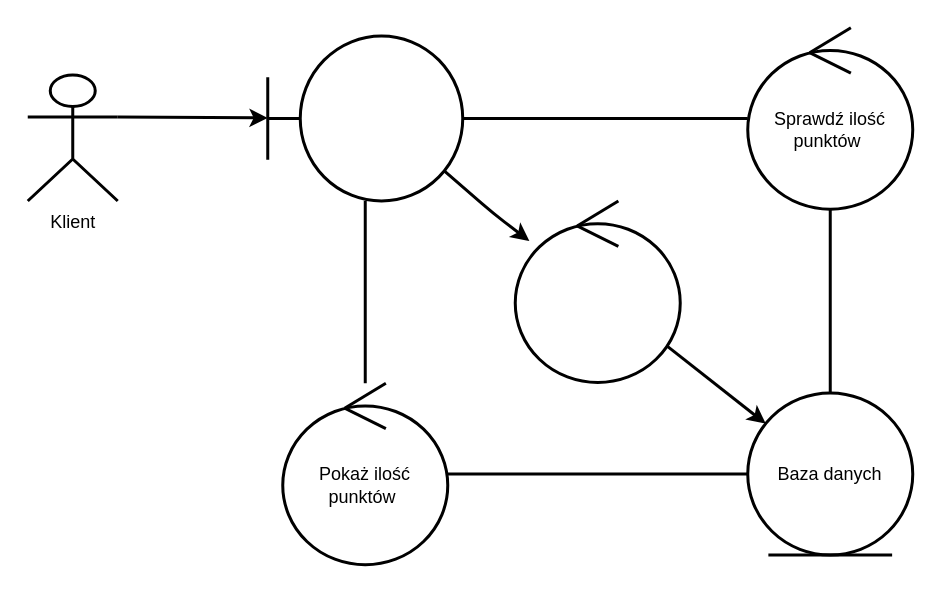
Some shapes in this 939 by 591 pixel diagram are drawn without their labels. The shapes that lost their labels are listed below. From the top down, each one's box as (x1, y1, x2, y2) in pixels, then its label:
(266, 34, 464, 202): Interfejs zarządzania ilością punktów
(513, 199, 681, 383): Wykorzystanie punktów
